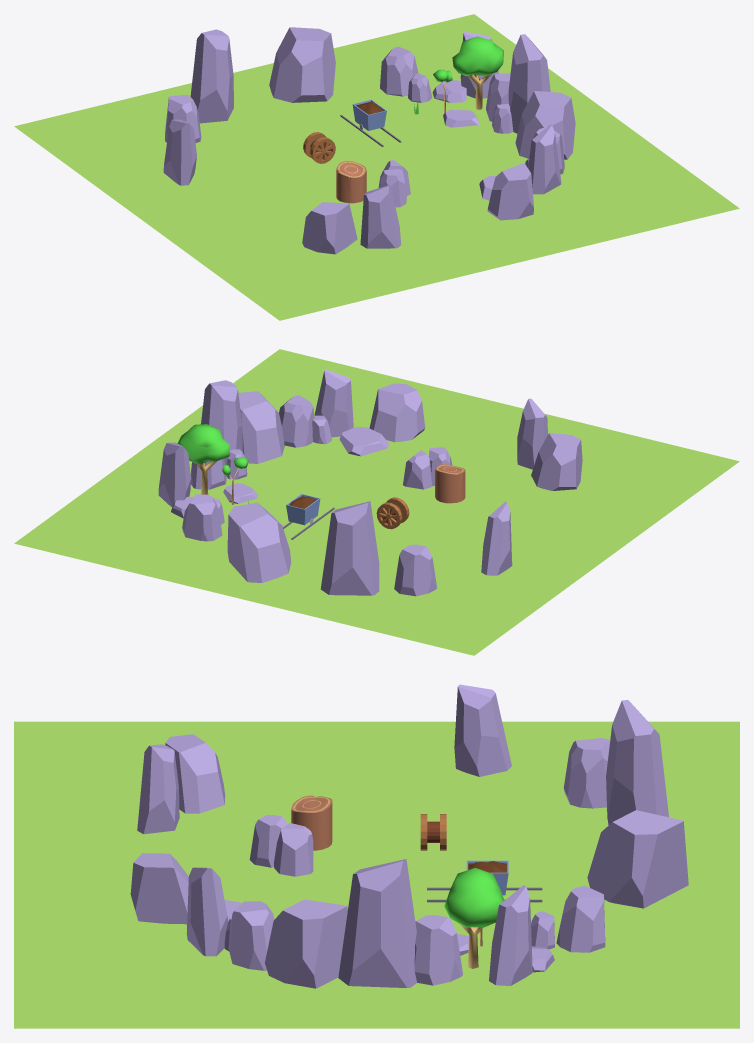
Rendered from env.fbx.
3 renders of one model, top to bottom at view 1: azimuth 30°, elevation 25°; view 2: azimuth 150°, elevation 25°; view 3: azimuth 270°, elevation 25°, orthographic. The views are drawn at different scales.
Parts seen in each view (by area): view 1: ground, small_rock_06.003, small_rock_04.005, small_rock_06.001, small_rock_04.001, small_rock_06.004, small_rock_04.004, small_rock_06.002, tree, small_rock_04.006, small_rock_04.002, small_rock_01.005 (+11 smaller); view 2: ground, small_rock_04.005, small_rock_06.003, small_rock_06.001, small_rock_06.002, small_rock_06.004, small_rock_04.001, small_rock_04.002, small_rock_04.006, small_rock_01.007, tree, small_rock_04.003 (+10 smaller); view 3: ground, small_rock_04.001, small_rock_06.003, small_rock_06.001, small_rock_04.005, small_rock_04.006, small_rock_06.002, small_rock_04.003, small_rock_06.004, small_rock_04.004, tree, small_rock_04.002 (+10 smaller).
Part boxes in pixels (x1,y1,x2,y2): ground: (14, 14, 739, 320); small_rock_06.003: (269, 27, 335, 102); small_rock_04.005: (190, 29, 233, 123); small_rock_06.001: (515, 91, 575, 159); small_rock_04.001: (508, 34, 550, 133); small_rock_06.004: (302, 202, 357, 254); small_rock_04.004: (360, 184, 401, 248); small_rock_06.002: (487, 163, 533, 220); tree: (452, 36, 503, 109); small_rock_04.006: (163, 119, 196, 185); small_rock_04.002: (528, 124, 561, 194); small_rock_01.005: (380, 46, 418, 96); ground: (14, 349, 739, 655); small_rock_04.005: (320, 501, 379, 595); small_rock_06.003: (227, 502, 291, 582); small_rock_06.001: (238, 391, 284, 463); small_rock_06.002: (369, 383, 425, 442); small_rock_06.004: (531, 432, 582, 490); small_rock_04.001: (201, 380, 242, 464); small_rock_04.002: (314, 369, 353, 437); small_rock_04.006: (481, 501, 512, 575); small_rock_01.007: (394, 544, 437, 596); tree: (177, 424, 229, 494); small_rock_04.003: (158, 442, 191, 507); ground: (14, 721, 739, 1028); small_rock_04.001: (338, 859, 416, 987); small_rock_06.003: (587, 810, 688, 908); small_rock_06.001: (265, 899, 347, 988); small_rock_04.005: (606, 700, 668, 824); small_rock_04.006: (454, 684, 511, 776); small_rock_06.002: (130, 853, 188, 924); small_rock_04.003: (489, 885, 532, 985); small_rock_06.004: (165, 734, 225, 813); small_rock_04.004: (137, 744, 179, 834); tree: (444, 868, 504, 968); small_rock_04.002: (186, 867, 227, 956).
Bounding box in the file's own units: 10643 × 2053 × 10643.
